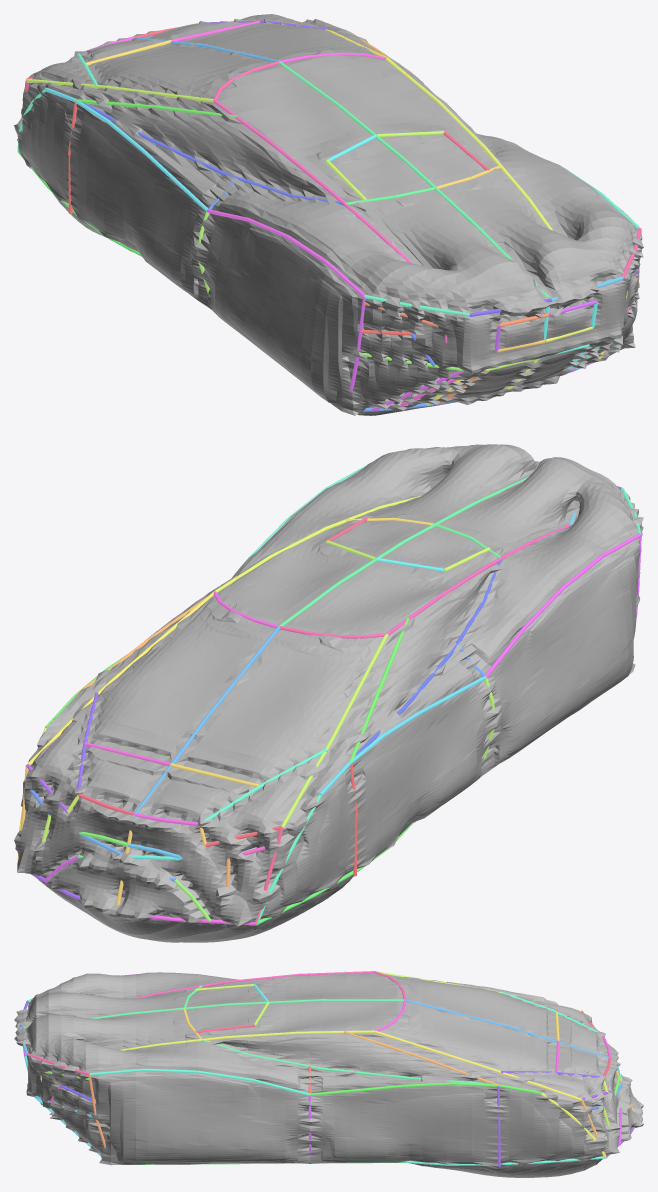
The model's file is ils_car3.gltf.
The picture shows the model from 3 angles, top to bottom: view 1: azimuth 30°, elevation 25°; view 2: azimuth 150°, elevation 25°; view 3: azimuth 270°, elevation 25°; orthographic projection. The views are drawn at different scales.
Size of the model in its own units: 0.3873 by 0.2631 by 0.9342.
